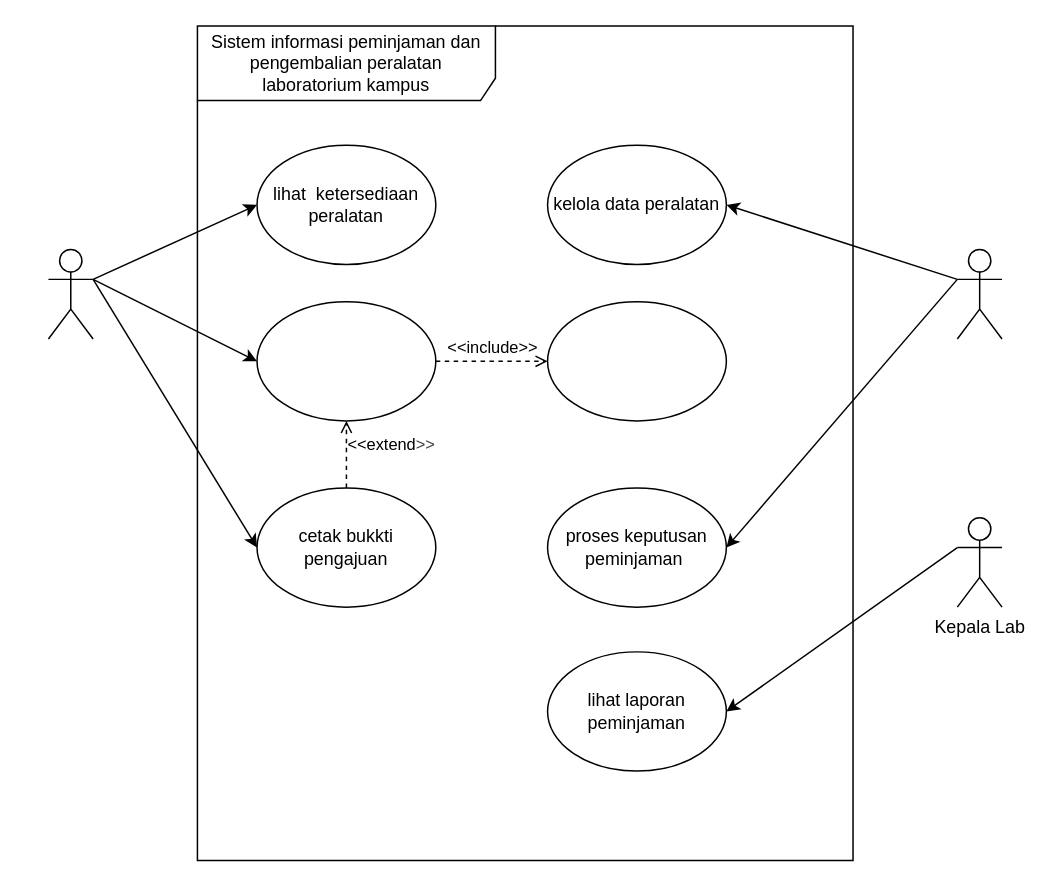
Image size: 1055x887. Some labels were removed from this diagram. Each missing label, with the centre of its shape:
ajukan peminjaman: point 346,360
Mahasiswa: point 70,293
periksa ketersediaan: point 636,360
Petugas Lab: point 979,293
